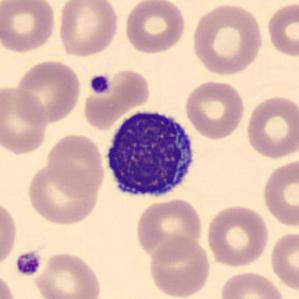Lymphocyte: (100, 104, 200, 204)
Platelets: (14, 250, 44, 278), (87, 73, 112, 96)
RBC: (190, 1, 266, 77), (24, 160, 103, 227), (12, 58, 83, 124), (133, 196, 205, 260), (204, 202, 271, 268), (82, 66, 153, 127), (146, 234, 212, 299), (44, 131, 106, 198), (182, 78, 246, 141), (55, 0, 120, 58), (243, 93, 298, 161), (122, 0, 188, 55), (0, 85, 50, 156), (32, 250, 103, 299), (0, 0, 57, 55), (260, 156, 298, 229), (218, 269, 288, 299), (268, 229, 298, 292), (265, 1, 298, 58), (0, 197, 19, 272), (0, 270, 19, 299)
